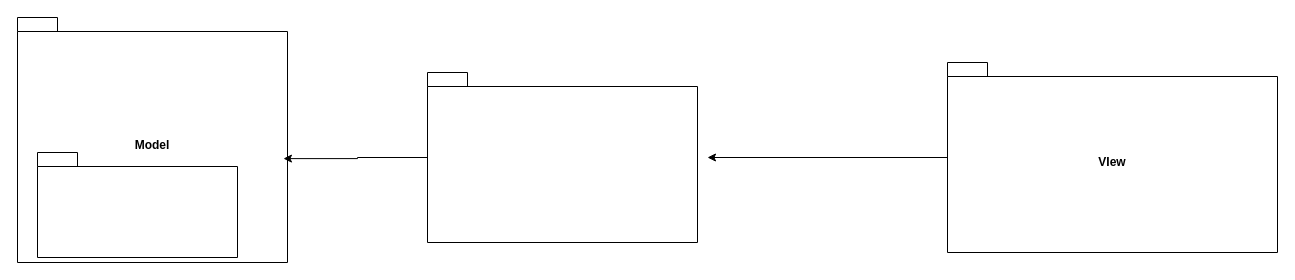
The diagram is 1295 pixels wide and 280 high, and some of its shapes have lost their labels. Each missing label, with the centre of its shape:
"Presenter" belongs at point (562, 157).
"Repository" belongs at point (137, 205).
